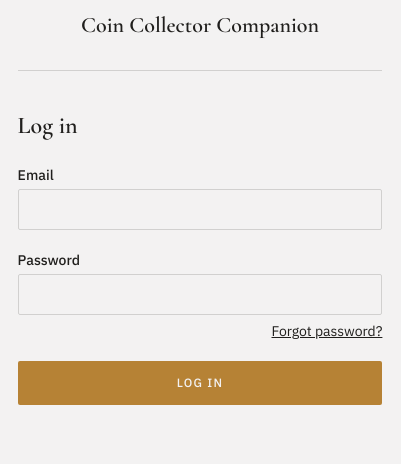
Test case: LoginPage › criterion 4: surfaces a rejected submission via lib/form-errors, not an unhandled exception › shows a page-level error when the ApiError detail does not match a known field
Step 1. Type "user@example.com" into the field with id "email" → (200, 210), box 18,189 -> 382,230
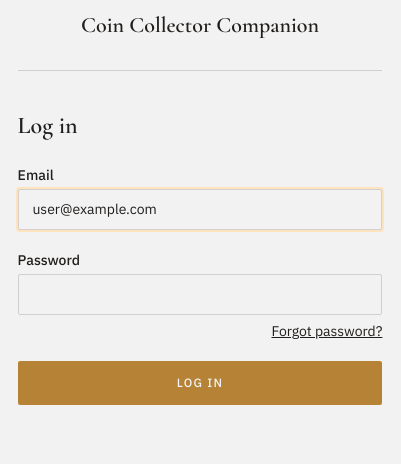
Step 2. Type "wrongpassword" into the password field labelled "Password" → (200, 294), box 18,274 -> 382,315
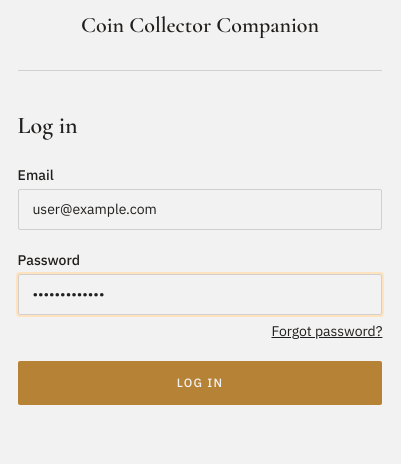
Step 3. Click the button with test id "login-submit" → (200, 383), box 18,361 -> 382,405
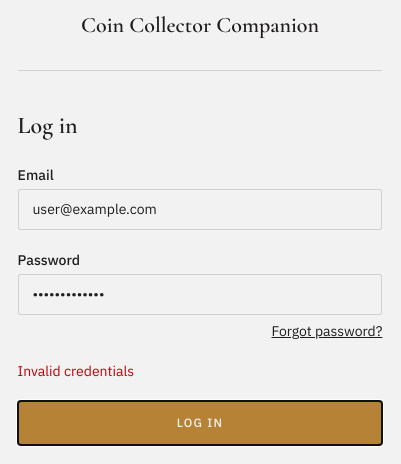
Check: the text with test id "login-form-error" reads "Invalid credentials", box 18,362 -> 134,380
